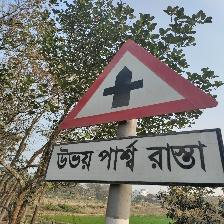Crossroad: (42, 34, 224, 188)
